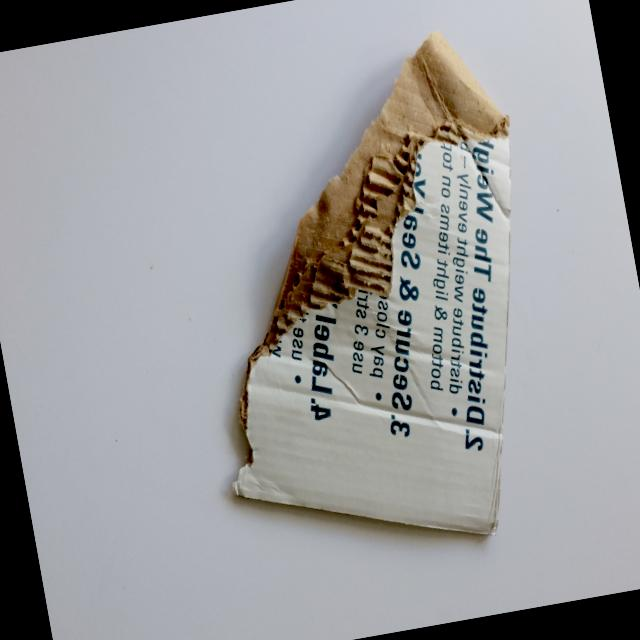Cardboard: (134, 0, 588, 598)
